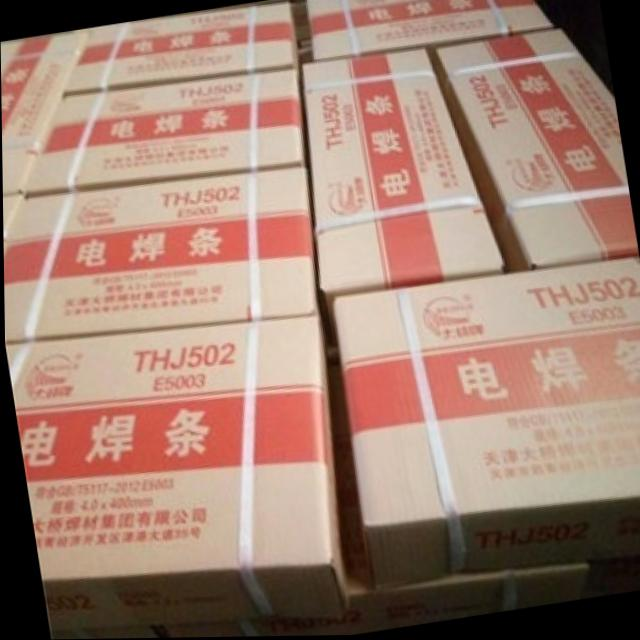box: (4, 319, 346, 634), (332, 256, 640, 591), (3, 167, 318, 342), (300, 48, 509, 298), (425, 30, 639, 273), (167, 524, 587, 638), (23, 65, 307, 195), (62, 2, 300, 93), (307, 0, 556, 61), (0, 29, 86, 195), (2, 196, 28, 242)
